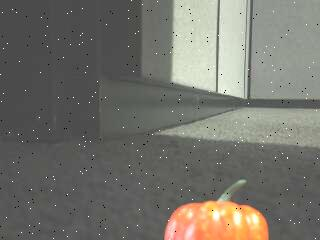Pumpkin: (162, 177, 272, 240)
